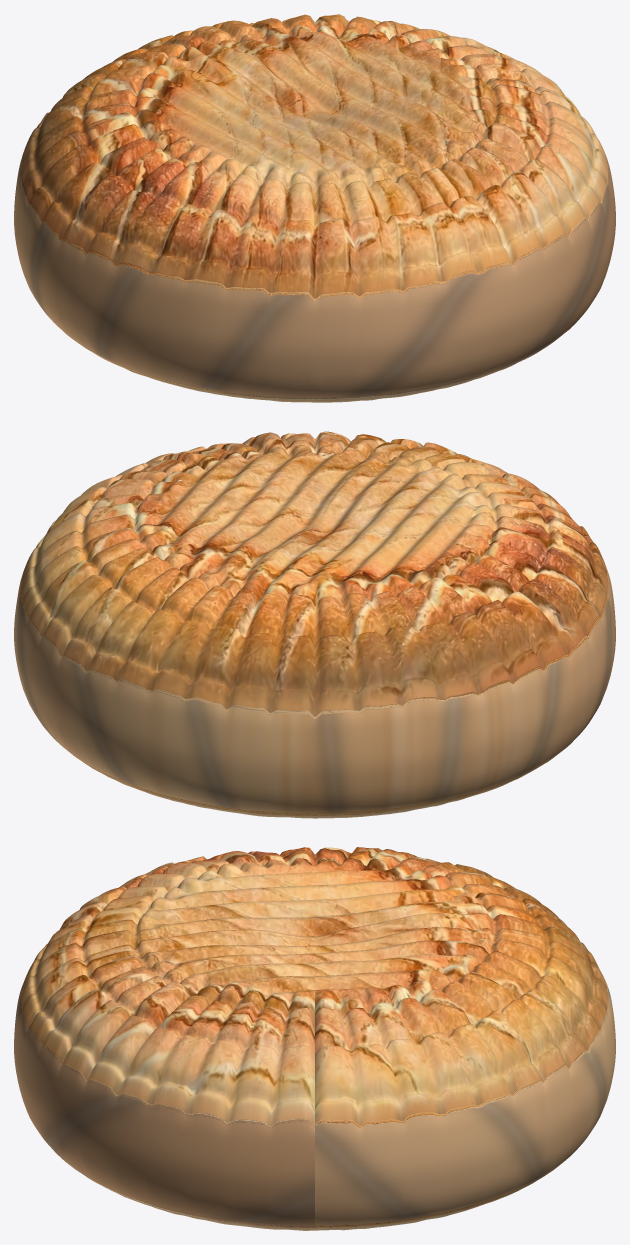
Rendered from bread_round_loaf.glb.
The picture shows the model from 3 angles, top to bottom: view 1: azimuth 30°, elevation 25°; view 2: azimuth 150°, elevation 25°; view 3: azimuth 270°, elevation 25°; orthographic projection.
Parts seen in each view (by area): view 1: RoundScoredLoaf; view 2: RoundScoredLoaf; view 3: RoundScoredLoaf.
Boxes of the visible parts, x1,y1,x2,y2 form: RoundScoredLoaf: (14, 14, 615, 402); RoundScoredLoaf: (14, 431, 615, 818); RoundScoredLoaf: (14, 847, 615, 1230).
Bounding box in the file's own units: 2 × 0.767 × 2.
1 material, 1 textured.
